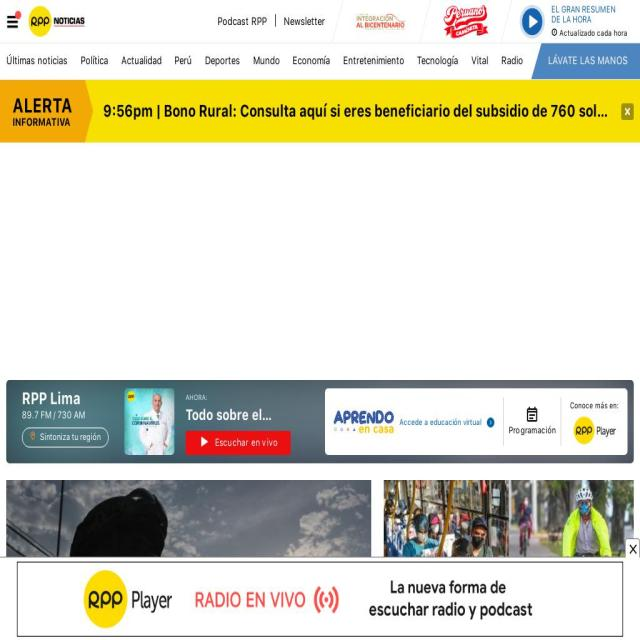button: (6, 480, 372, 640), (384, 480, 634, 640), (93, 80, 640, 142), (520, 3, 628, 39), (334, 410, 495, 433), (542, 42, 640, 79), (22, 388, 109, 422), (186, 431, 290, 455), (22, 428, 109, 448), (444, 4, 488, 38), (508, 406, 556, 436), (356, 12, 407, 30)
iframe: (92, 159, 640, 368)
image: (6, 480, 372, 640), (6, 380, 634, 463), (384, 480, 634, 640), (124, 388, 174, 455), (28, 6, 85, 36), (444, 4, 488, 38), (334, 410, 394, 433), (572, 416, 616, 445), (519, 3, 545, 39), (356, 12, 407, 30), (621, 102, 634, 120), (490, 419, 492, 425)
link: (7, 79, 192, 117), (203, 79, 363, 117), (375, 79, 524, 117), (186, 404, 320, 425), (6, 42, 68, 79), (343, 42, 405, 79), (120, 42, 162, 79), (417, 42, 459, 79), (292, 42, 331, 79), (204, 42, 240, 79), (80, 42, 109, 79), (252, 42, 280, 79), (501, 42, 524, 79), (218, 14, 268, 28), (174, 42, 192, 79), (471, 42, 488, 79), (284, 14, 326, 28)
text: (22, 388, 109, 408), (552, 4, 626, 25), (22, 408, 109, 422), (12, 96, 72, 116), (400, 416, 484, 426), (558, 27, 628, 38), (13, 116, 70, 128), (570, 398, 619, 411), (40, 432, 101, 442), (509, 425, 556, 436), (214, 437, 250, 448), (248, 437, 278, 448), (185, 392, 208, 402)
